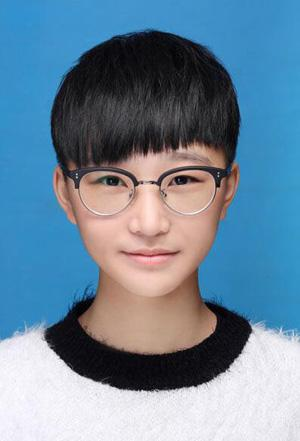unmask: (70, 144, 229, 295)
